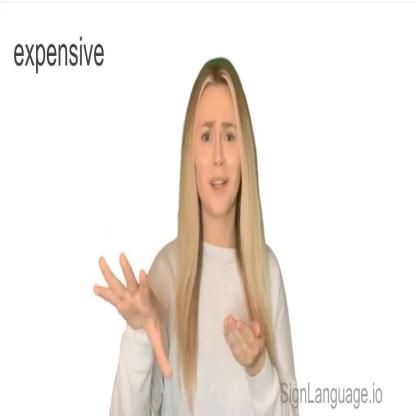Expensive: (91, 246, 266, 386)
